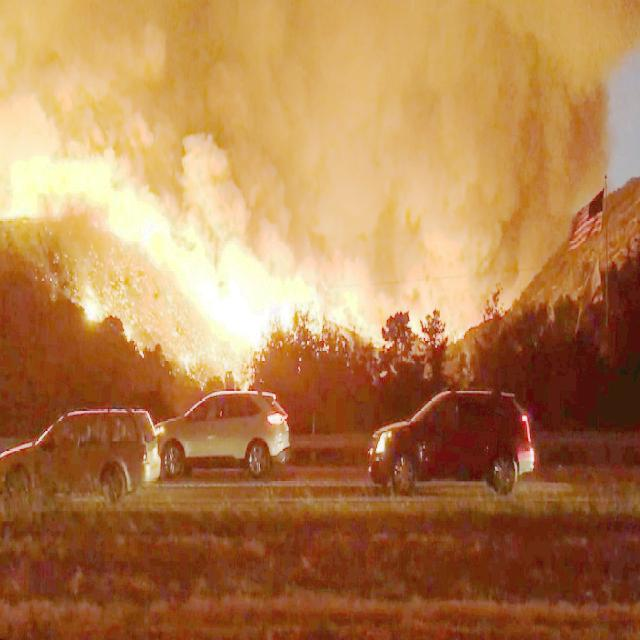api: (2, 157, 315, 380)
asap: (202, 1, 640, 345), (1, 1, 178, 190), (186, 121, 257, 260)
